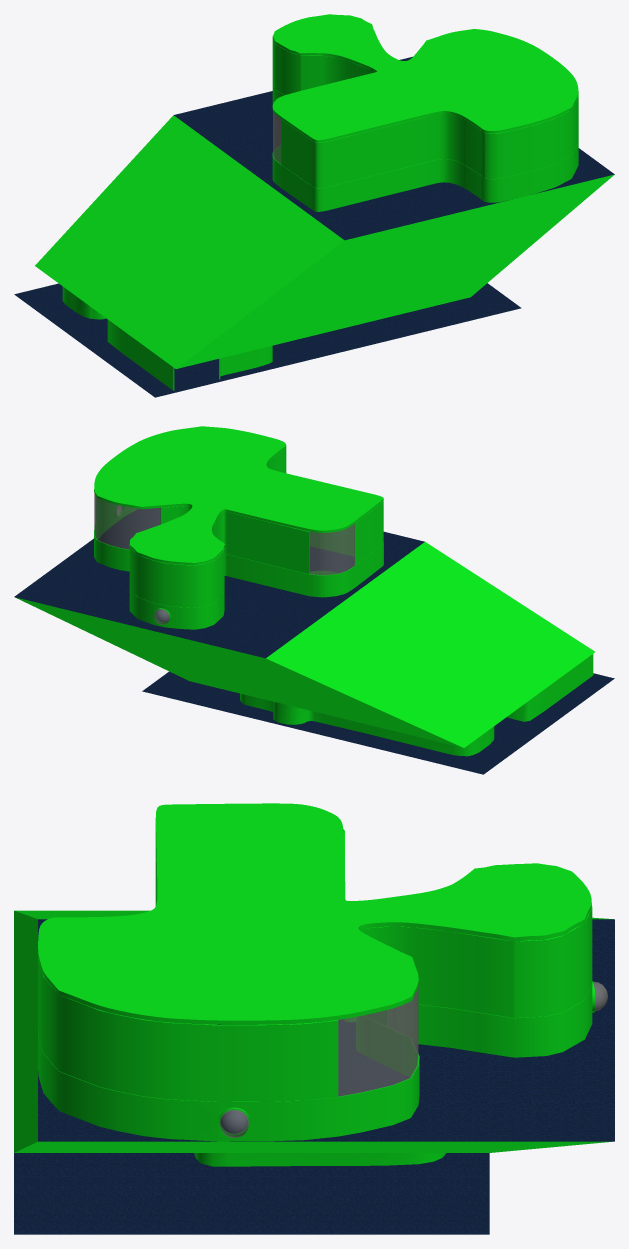
The model's file is MapFrut.fbx.
3 views of the same model, one above another, from view 1: azimuth 30°, elevation 25°; view 2: azimuth 150°, elevation 25°; view 3: azimuth 270°, elevation 25° (orthographic). The views are drawn at different scales.
Visible parts, largest first — view 1: Plane.007, Roof, Wall2, Plane.006, Wall3, Wall; view 2: Plane.007, Roof, Wall2, Plane.006, Wall3, Wall, Window, Window.001; view 3: Roof, Plane.007, Wall2, Plane.006, Wall3, Window, Wall, Cube.020.
Boxes of the visible parts, x1=… form: Plane.007: x1=35, y1=56, x2=614, y2=368; Roof: x1=272, y1=14, x2=578, y2=142; Wall2: x1=272, y1=39, x2=578, y2=188; Plane.006: x1=14, y1=283, x2=521, y2=397; Wall3: x1=272, y1=84, x2=578, y2=211; Wall: x1=62, y1=286, x2=272, y2=390; Plane.007: x1=14, y1=508, x2=594, y2=747; Roof: x1=94, y1=426, x2=383, y2=565; Wall2: x1=96, y1=448, x2=383, y2=607; Plane.006: x1=142, y1=671, x2=614, y2=774; Wall3: x1=94, y1=504, x2=383, y2=629; Wall: x1=240, y1=654, x2=593, y2=756; Window: x1=94, y1=493, x2=160, y2=549; Window.001: x1=309, y1=523, x2=354, y2=575; Roof: x1=38, y1=803, x2=591, y2=1024; Plane.007: x1=14, y1=910, x2=614, y2=1152; Wall2: x1=38, y1=817, x2=592, y2=1101; Plane.006: x1=14, y1=1153, x2=489, y2=1234; Wall3: x1=38, y1=899, x2=592, y2=1141; Window: x1=338, y1=985, x2=418, y2=1096; Wall: x1=194, y1=1153, x2=446, y2=1166; Cube.020: x1=219, y1=1109, x2=249, y2=1138.
Bounding box in the file's own units: 5319 × 1925 × 3451.
3 materials, 1 textured.
